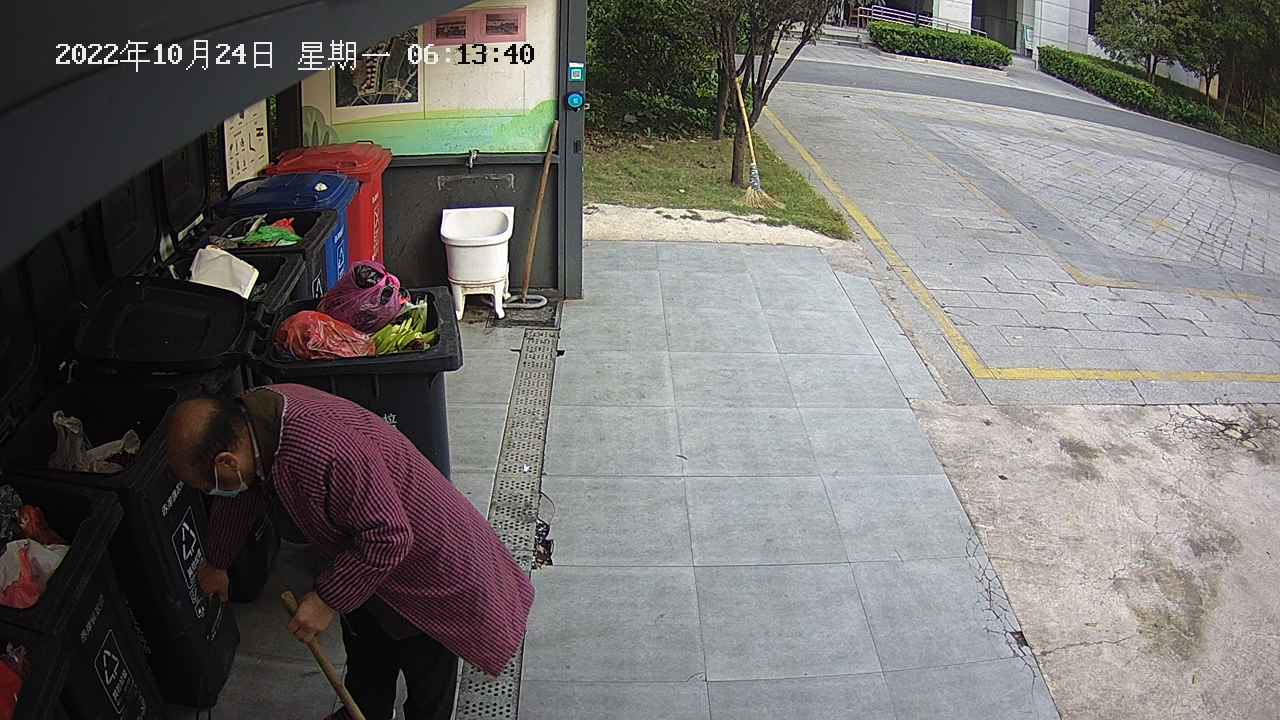person: (161, 376, 538, 720)
